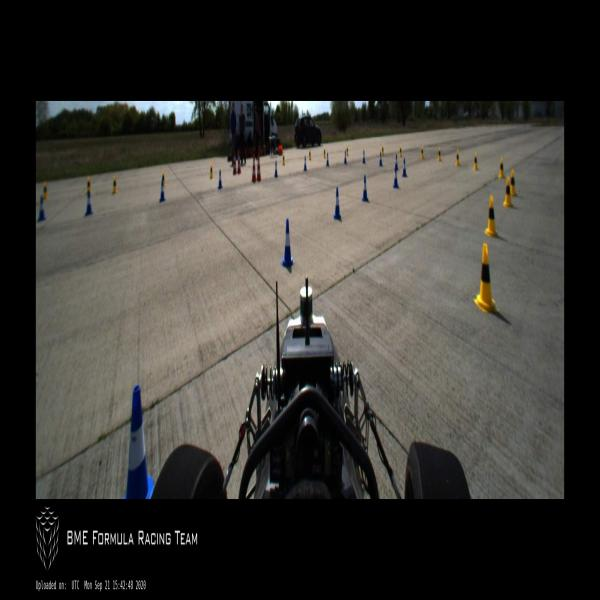blue_cone: (123, 385, 154, 498), (280, 218, 295, 267), (333, 188, 341, 219), (37, 195, 46, 222), (85, 190, 93, 215), (362, 175, 368, 201), (160, 179, 166, 202), (393, 166, 399, 188), (402, 158, 407, 177), (218, 169, 222, 189), (274, 160, 278, 178), (394, 154, 398, 170), (303, 156, 307, 171), (362, 149, 366, 163), (379, 151, 382, 166), (326, 152, 329, 167), (344, 150, 347, 164)
large_orange_cone: (256, 153, 262, 180), (252, 153, 256, 182), (232, 151, 236, 175), (237, 151, 241, 174)
yellow_cone: (474, 244, 498, 313), (485, 196, 497, 237), (503, 176, 513, 208), (510, 169, 517, 196), (498, 158, 504, 178), (86, 176, 92, 195), (42, 181, 48, 200), (112, 176, 117, 193), (455, 149, 460, 166), (474, 152, 478, 170), (437, 147, 441, 162), (162, 170, 165, 188), (210, 163, 213, 179), (282, 153, 285, 166), (421, 146, 424, 158), (399, 146, 402, 157), (381, 146, 384, 157), (346, 146, 349, 157), (323, 148, 326, 158), (309, 149, 311, 160)
